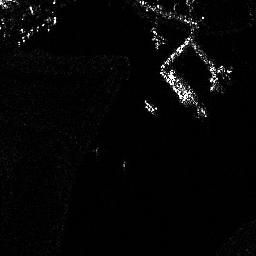ship: (166, 68, 206, 116), (15, 14, 58, 47), (208, 65, 236, 92)
